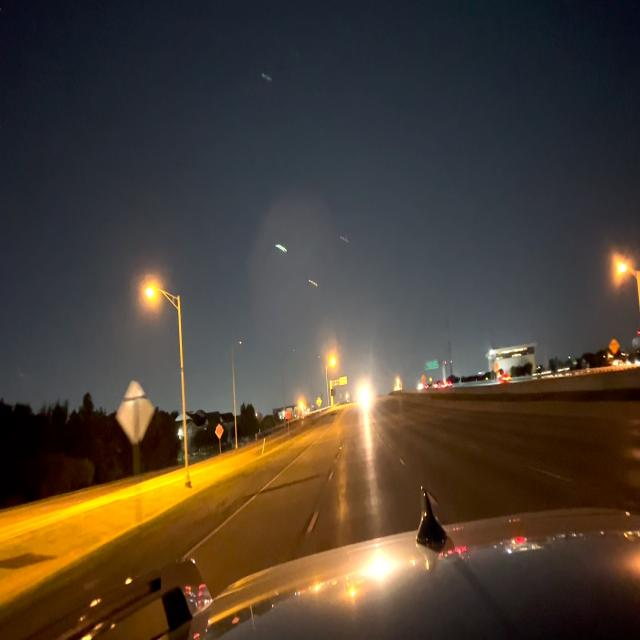back-of-sign: (115, 378, 157, 447)
